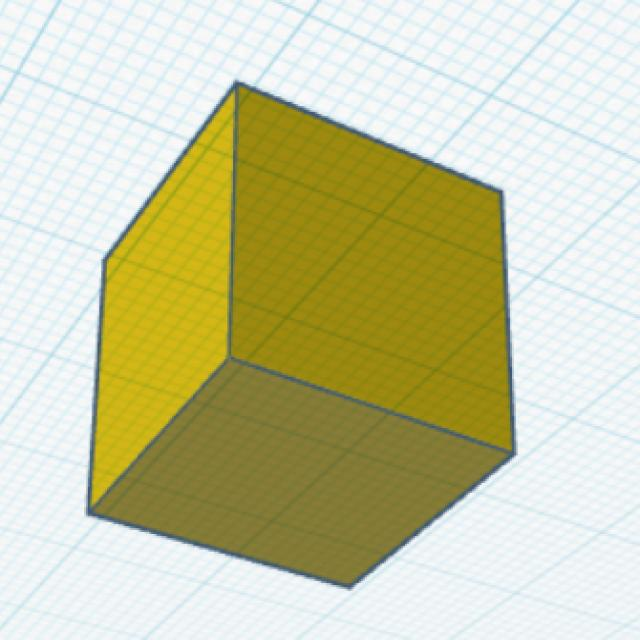cube: (81, 75, 521, 594)
